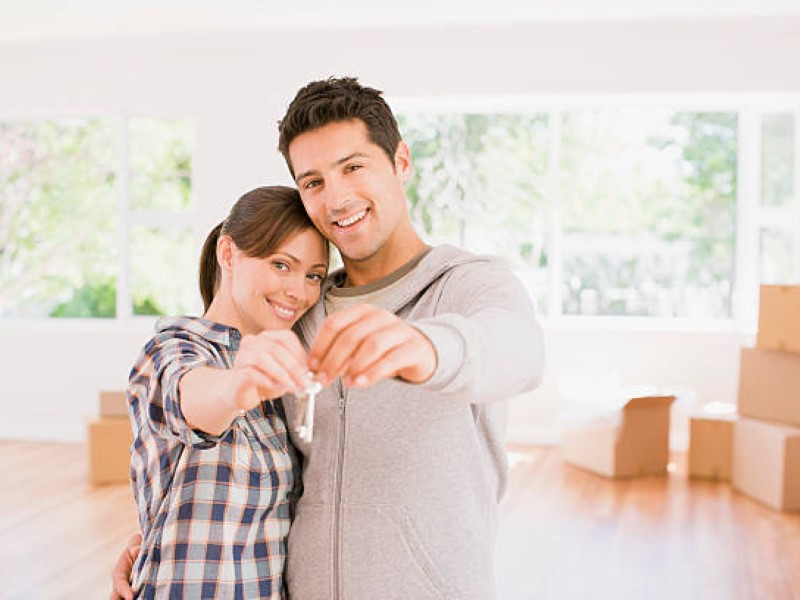key: (292, 367, 325, 447)
